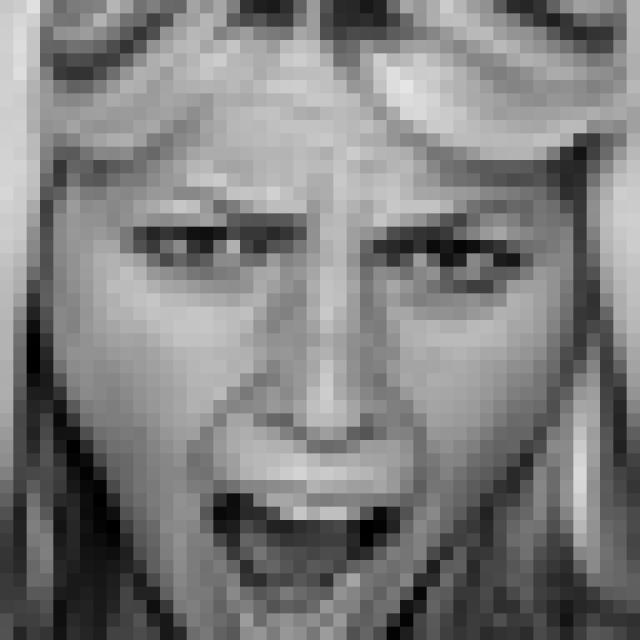angry: (130, 177, 544, 640)
